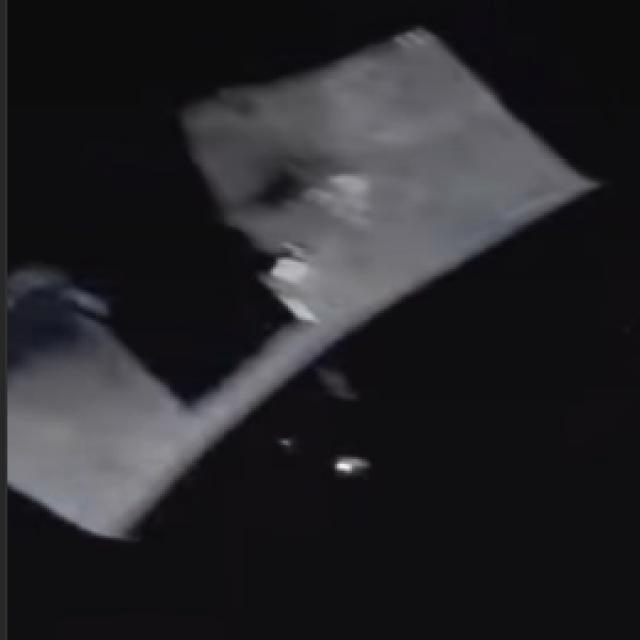large_debris: (0, 7, 592, 575)
